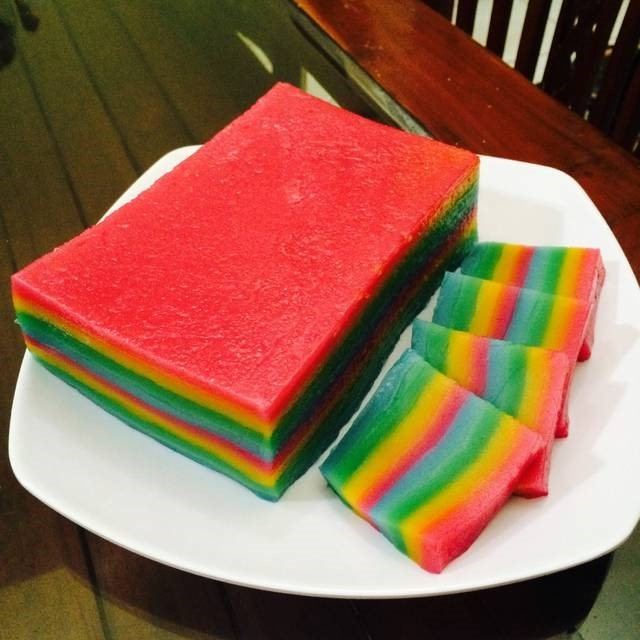kue_lapis_pelangi: (10, 266, 291, 503), (318, 349, 546, 573)
